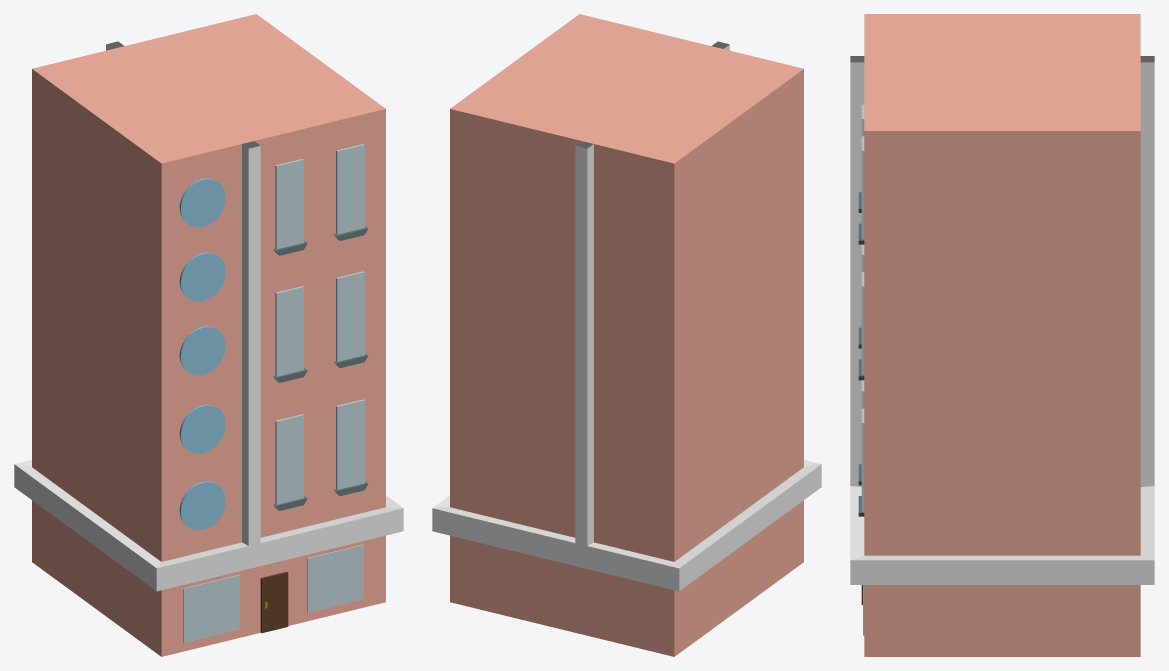
File: buildingA3.fbx
The picture shows the model from 3 angles, left to right: view 1: azimuth 30°, elevation 25°; view 2: azimuth 150°, elevation 25°; view 3: azimuth 270°, elevation 25°; orthographic projection. The views are drawn at different scales.
Visible parts, largest first — view 1: Cube; view 2: Cube; view 3: Cube.
Boxes of the visible parts, bbox=[...] form: Cube: bbox=[14, 14, 403, 656]; Cube: bbox=[432, 14, 821, 656]; Cube: bbox=[850, 14, 1154, 656].
Size of the model in its own units: 1100 by 2100 by 1100.
